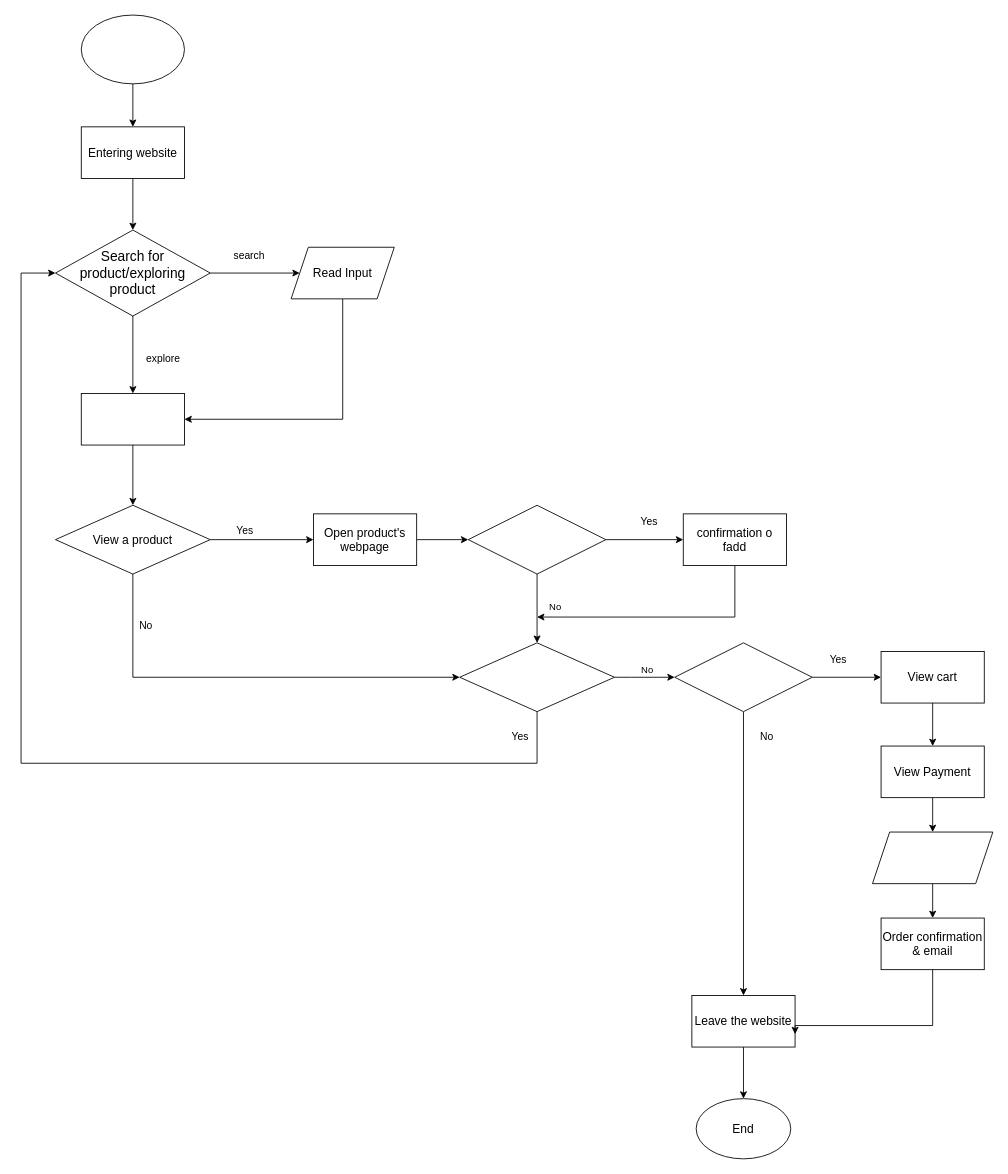
Image size: 1008x1174. Some labels were removed from this diagram. The shapes that lost their labels are listed below. From the top down, each one's box as (x1, y1, x2, y2) in pixels, then its label:
(80, 14, 184, 84): Start
(80, 393, 184, 445): Looking over product
(467, 504, 606, 574): Add item to cart
(459, 642, 614, 712): Continure shopping?
(674, 642, 812, 712): Check out?
(872, 831, 993, 884): Read payment information
